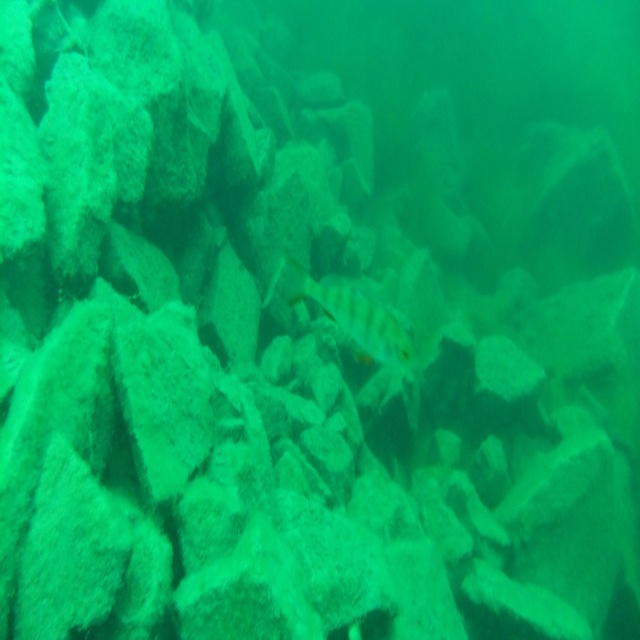Fish: (261, 240, 425, 373)
